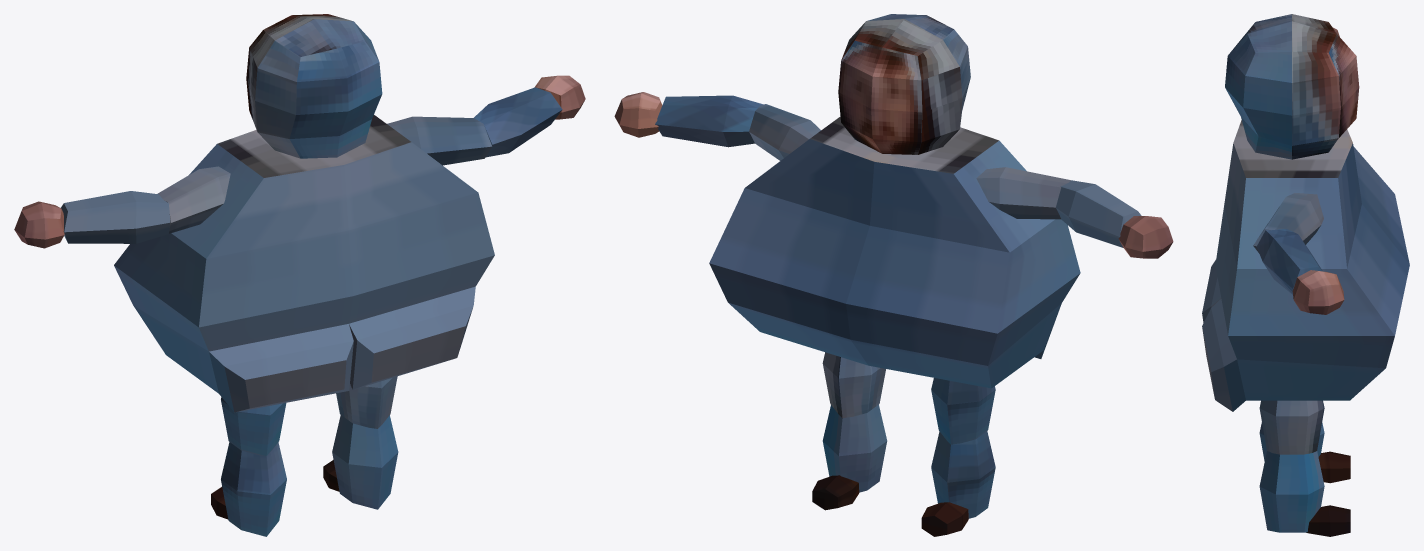
File: Caseoh.fbx
The picture shows the model from 3 angles, left to right: view 1: azimuth 30°, elevation 25°; view 2: azimuth 150°, elevation 25°; view 3: azimuth 270°, elevation 25°; orthographic projection. The views are drawn at different scales.
Visible parts, largest first — view 1: Cube, Cube.003, Cylinder.003, Cylinder.007, Cylinder.006, Cylinder.001, Cylinder, Cylinder.002, Cylinder.004, Cylinder.005, Cube.002, Cube.001; view 2: Cube, Cube.003, Cylinder.001, Cylinder.007, Cylinder.006, Cylinder.002, Cylinder.003, Cylinder.004, Cylinder.005, Cylinder, Cube.002, Cube.001 (+2 smaller); view 3: Cube, Cube.003, Cylinder.007, Cylinder.005, Cylinder.001, Cylinder, Cube.001, Cylinder.009, Cylinder.008, Cylinder.006.
Part boxes in pixels (box(x1,y1,x2,y2)): Cube: box(114, 115, 494, 412); Cube.003: box(246, 14, 382, 158); Cylinder.003: box(61, 191, 170, 243); Cylinder.007: box(332, 415, 398, 509); Cylinder.006: box(221, 442, 286, 536); Cylinder.001: box(474, 87, 562, 157); Cylinder: box(387, 116, 492, 165); Cylinder.002: box(157, 166, 230, 233); Cylinder.004: box(221, 397, 286, 455); Cylinder.005: box(336, 376, 397, 428); Cube.002: box(14, 201, 64, 248); Cube.001: box(534, 75, 585, 119); Cube: box(709, 116, 1080, 388); Cube.003: box(838, 14, 970, 154); Cylinder.001: box(655, 95, 763, 147); Cylinder.007: box(822, 404, 887, 492); Cylinder.006: box(931, 431, 995, 518); Cylinder.002: box(976, 167, 1070, 219); Cylinder.003: box(1056, 180, 1141, 247); Cylinder.004: box(931, 378, 995, 444); Cylinder.005: box(822, 352, 885, 418); Cylinder: box(749, 104, 821, 160); Cube.002: box(1118, 216, 1173, 258); Cube.001: box(614, 92, 662, 137); Cube: box(1202, 120, 1409, 411); Cube.003: box(1225, 14, 1359, 159); Cylinder.007: box(1259, 451, 1324, 532); Cylinder.005: box(1259, 400, 1324, 454); Cylinder.001: box(1256, 228, 1322, 294); Cylinder: box(1253, 193, 1323, 253); Cube.001: box(1292, 270, 1344, 314); Cylinder.009: box(1306, 505, 1350, 536); Cylinder.008: box(1318, 451, 1350, 483); Cylinder.006: box(1259, 422, 1324, 461).
Size of the model in its own units: 0.5749 by 0.4873 by 0.1875.
Materials: 1 (1 with a texture image).
